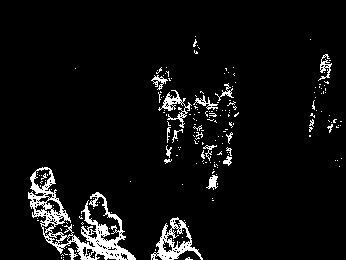person: (28, 165, 74, 260), (193, 91, 224, 188), (150, 216, 202, 260), (158, 88, 187, 165), (214, 82, 240, 166)
